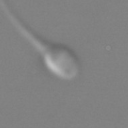normal: (1, 1, 48, 52)
